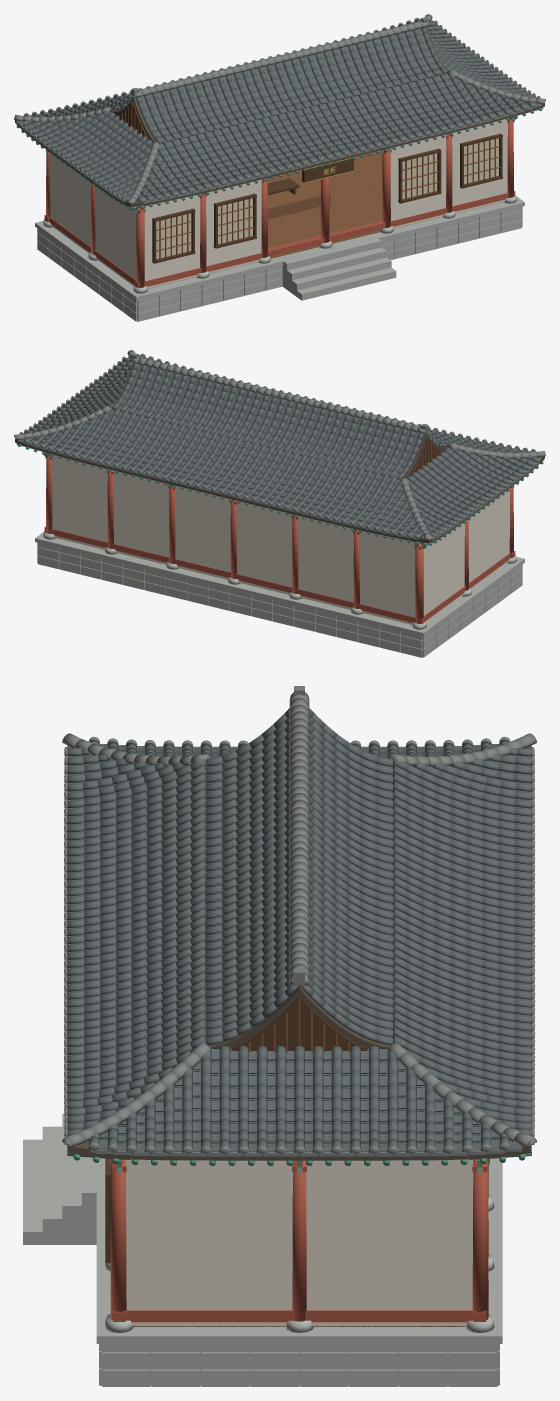
File: Gwana_Dongheon.fbx
3 renders of one model, top to bottom at view 1: azimuth 30°, elevation 25°; view 2: azimuth 150°, elevation 25°; view 3: azimuth 270°, elevation 25°, orthographic. The views are drawn at different scales.
Visible parts, largest first — view 1: GW_Gwana_Dongheon_Individual_Sukiwa, GW_Gwana_Dongheon_Walls_Floor, GW_Gwana_Dongheon_Individual_Amkiwa, GW_Gwana_Dongheon_Stone_Foundation, GW_Gwana_Dongheon_Timber, GW_Gwana_Dongheon_Doors_Lattice, GW_Gwana_Dongheon_Segmented_Ridge, GW_Gwana_Dongheon_Individual_Wadang, GW_Gwana_Dongheon_Roof_Shell, GW_Gwana_Dongheon_Open_Daecheong_Interior, GW_Gwana_Dongheon_Individual_Rafters, GW_Gwana_Dongheon_Signboard; view 2: GW_Gwana_Dongheon_Individual_Sukiwa, GW_Gwana_Dongheon_Walls_Floor, GW_Gwana_Dongheon_Individual_Amkiwa, GW_Gwana_Dongheon_Stone_Foundation, GW_Gwana_Dongheon_Timber, GW_Gwana_Dongheon_Segmented_Ridge, GW_Gwana_Dongheon_Individual_Wadang, GW_Gwana_Dongheon_Roof_Shell, GW_Gwana_Dongheon_Individual_Rafters; view 3: GW_Gwana_Dongheon_Individual_Sukiwa, GW_Gwana_Dongheon_Walls_Floor, GW_Gwana_Dongheon_Stone_Foundation, GW_Gwana_Dongheon_Individual_Amkiwa, GW_Gwana_Dongheon_Segmented_Ridge, GW_Gwana_Dongheon_Timber, GW_Gwana_Dongheon_Roof_Shell, GW_Gwana_Dongheon_Individual_Wadang, GW_Gwana_Dongheon_Individual_Rafters.
Part boxes in pixels (<box>): GW_Gwana_Dongheon_Individual_Sukiwa: <box>22,19,538,201</box>; GW_Gwana_Dongheon_Walls_Floor: <box>50,119,507,288</box>; GW_Gwana_Dongheon_Individual_Amkiwa: <box>16,19,541,203</box>; GW_Gwana_Dongheon_Stone_Foundation: <box>35,196,524,321</box>; GW_Gwana_Dongheon_Timber: <box>43,117,516,293</box>; GW_Gwana_Dongheon_Doors_Lattice: <box>152,133,502,263</box>; GW_Gwana_Dongheon_Segmented_Ridge: <box>14,14,545,203</box>; GW_Gwana_Dongheon_Individual_Wadang: <box>19,17,540,203</box>; GW_Gwana_Dongheon_Roof_Shell: <box>15,27,544,207</box>; GW_Gwana_Dongheon_Open_Daecheong_Interior: <box>267,178,330,219</box>; GW_Gwana_Dongheon_Individual_Rafters: <box>16,107,543,209</box>; GW_Gwana_Dongheon_Signboard: <box>302,158,353,183</box>; GW_Gwana_Dongheon_Individual_Sukiwa: <box>21,355,537,537</box>; GW_Gwana_Dongheon_Walls_Floor: <box>52,455,509,624</box>; GW_Gwana_Dongheon_Individual_Amkiwa: <box>18,355,539,540</box>; GW_Gwana_Dongheon_Stone_Foundation: <box>35,532,524,657</box>; GW_Gwana_Dongheon_Timber: <box>43,453,516,629</box>; GW_Gwana_Dongheon_Segmented_Ridge: <box>14,350,545,539</box>; GW_Gwana_Dongheon_Individual_Wadang: <box>19,353,540,539</box>; GW_Gwana_Dongheon_Roof_Shell: <box>15,356,544,543</box>; GW_Gwana_Dongheon_Individual_Rafters: <box>16,443,543,545</box>; GW_Gwana_Dongheon_Individual_Sukiwa: <box>67,708,531,1148</box>; GW_Gwana_Dongheon_Walls_Floor: <box>126,1159,473,1326</box>; GW_Gwana_Dongheon_Stone_Foundation: <box>23,1113,502,1386</box>; GW_Gwana_Dongheon_Individual_Amkiwa: <box>64,728,534,1156</box>; GW_Gwana_Dongheon_Segmented_Ridge: <box>62,686,536,1146</box>; GW_Gwana_Dongheon_Timber: <box>104,1159,494,1332</box>; GW_Gwana_Dongheon_Roof_Shell: <box>67,745,531,1160</box>; GW_Gwana_Dongheon_Individual_Wadang: <box>64,736,535,1156</box>; GW_Gwana_Dongheon_Individual_Rafters: <box>67,1152,531,1166</box>.
Size of what is drawn, in the model's own units: 17.7 by 7.46 by 9.41.
